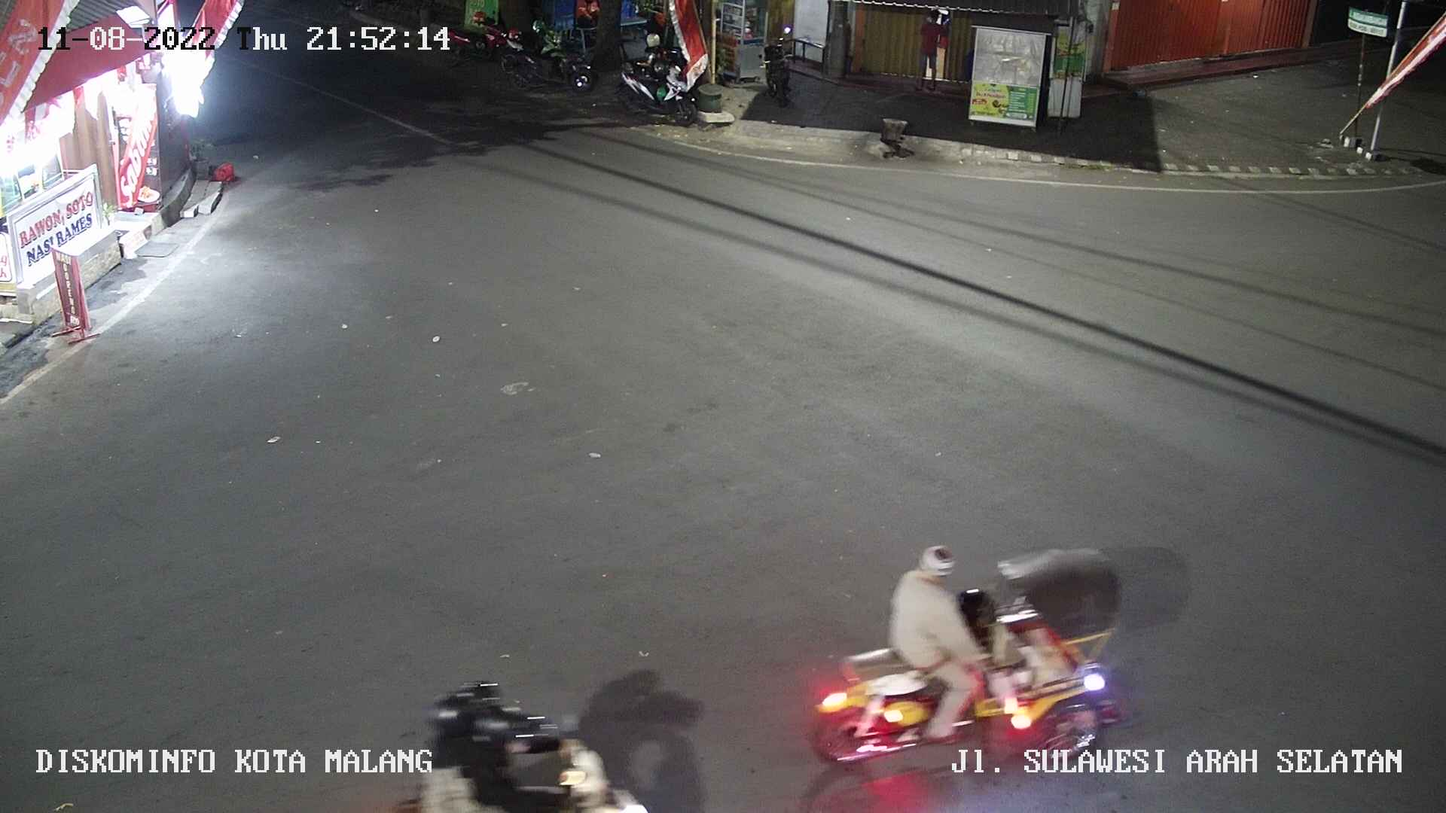without_helmet: (797, 518, 1128, 813)
